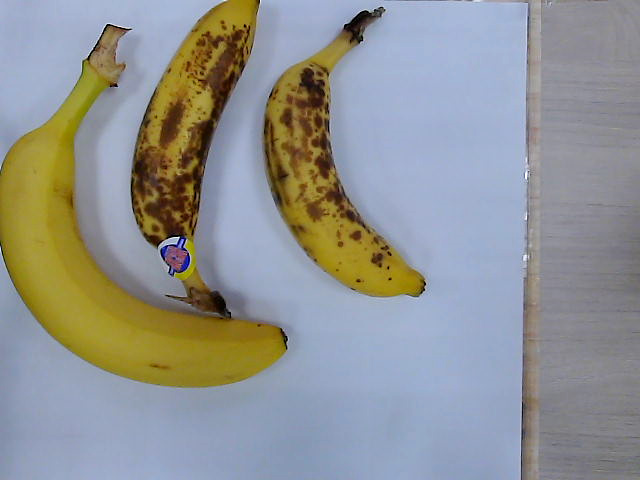fresh_banana: (1, 125, 287, 387)
rotten_banana: (264, 8, 428, 300), (132, 1, 259, 317)
